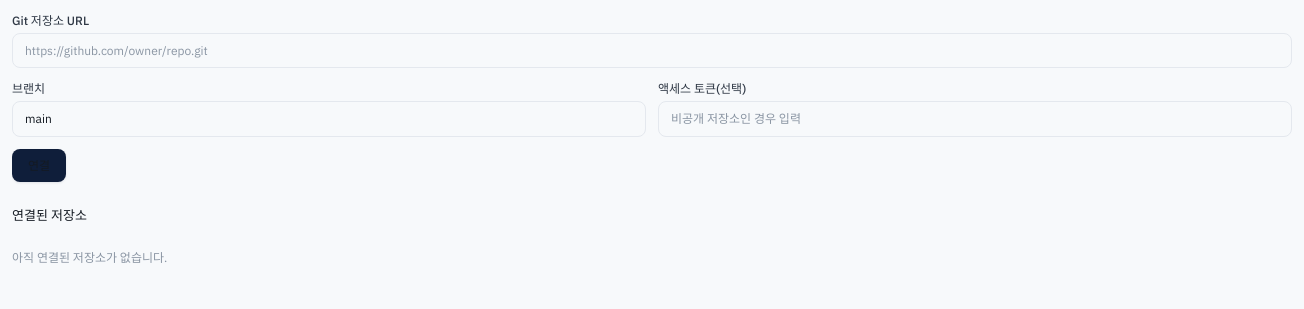
Test case: KnowledgeSourcesClient › shows a form error when git_url is empty
Expected: the text "아직 연결된 저장소가 없습니다." is shown, [12,250,167,265]
Click the button with test id "ks-submit" at [39, 165], box [12,149,66,182]
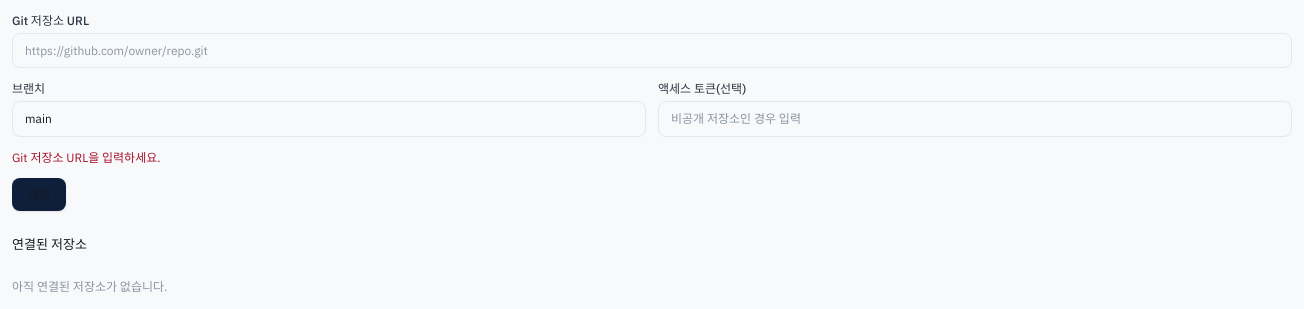
Now the message with test id "ks-form-error" reads "Git 저장소 URL을 입력하세요.", box [12,150,160,165]
